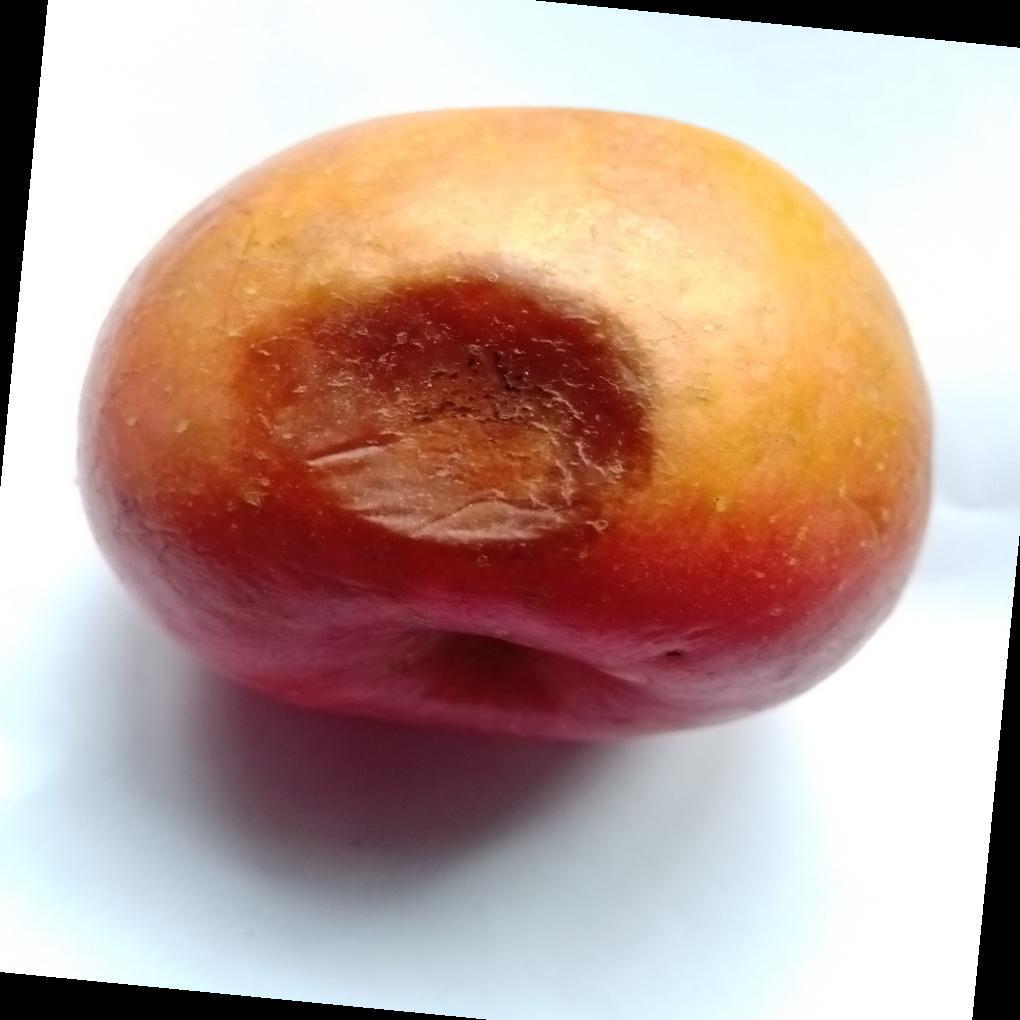FreshOrange: (74, 107, 937, 750)
